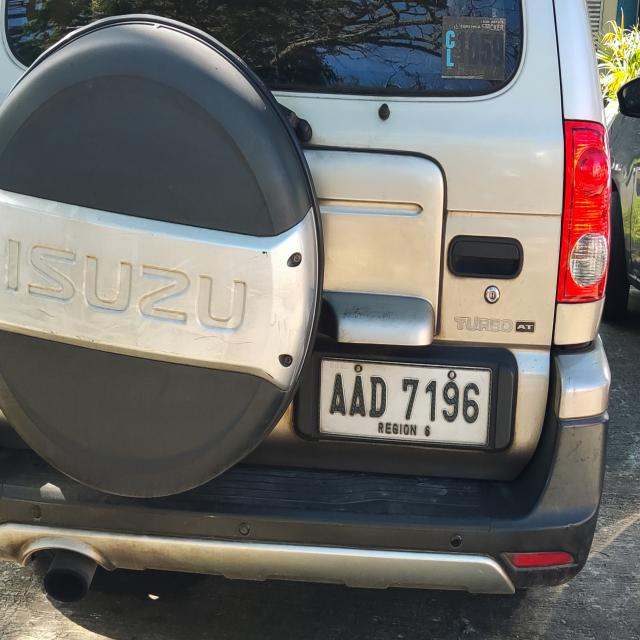plate: (316, 352, 494, 452)
